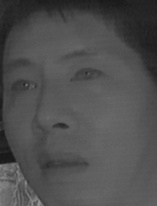eye: (68, 66, 106, 85), (6, 78, 39, 97)
mouth: (34, 148, 91, 178)
